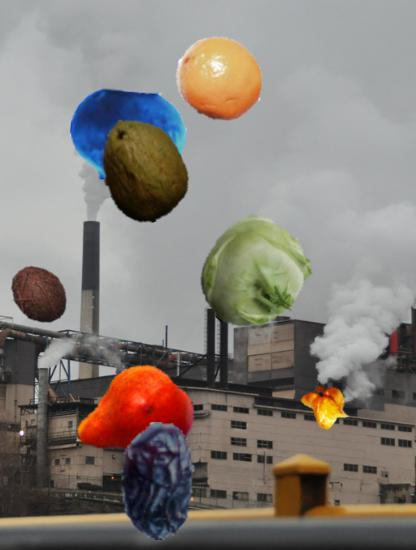Carambula: (301, 380, 352, 431)
Cocos: (8, 263, 72, 327)
Dates: (99, 422, 218, 541)
Huckleberry: (70, 79, 186, 195)
Kohlrabi: (197, 218, 312, 333)
Lemon: (175, 34, 265, 124)
Papaya: (89, 115, 197, 223)
Pear: (76, 360, 194, 478)
